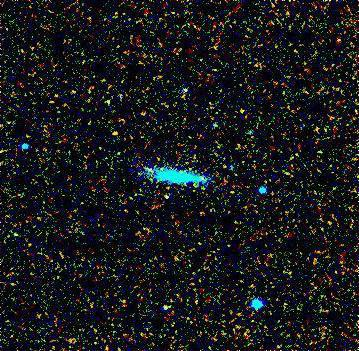star: (102, 118, 132, 148)
